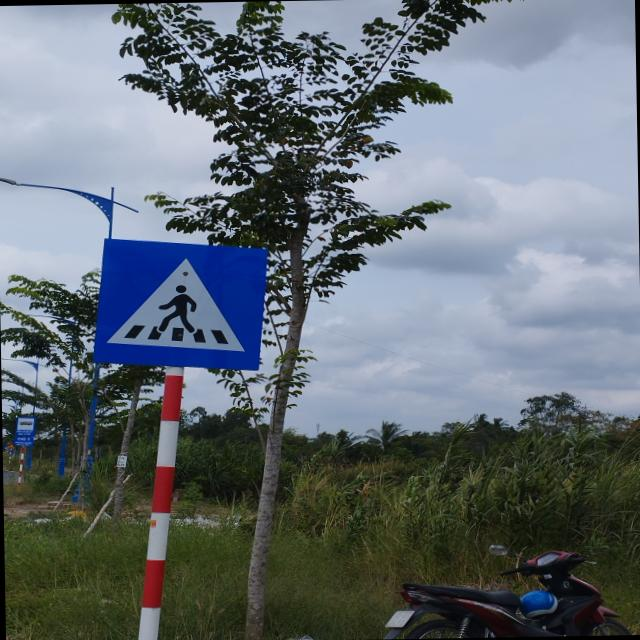Giao_Nhau_Duong_Uu_Tien: (91, 236, 267, 373)
